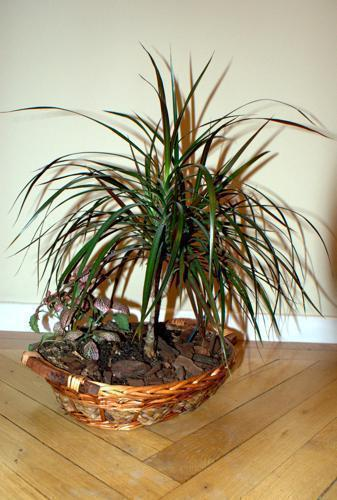Matera: (10, 52, 323, 433)
